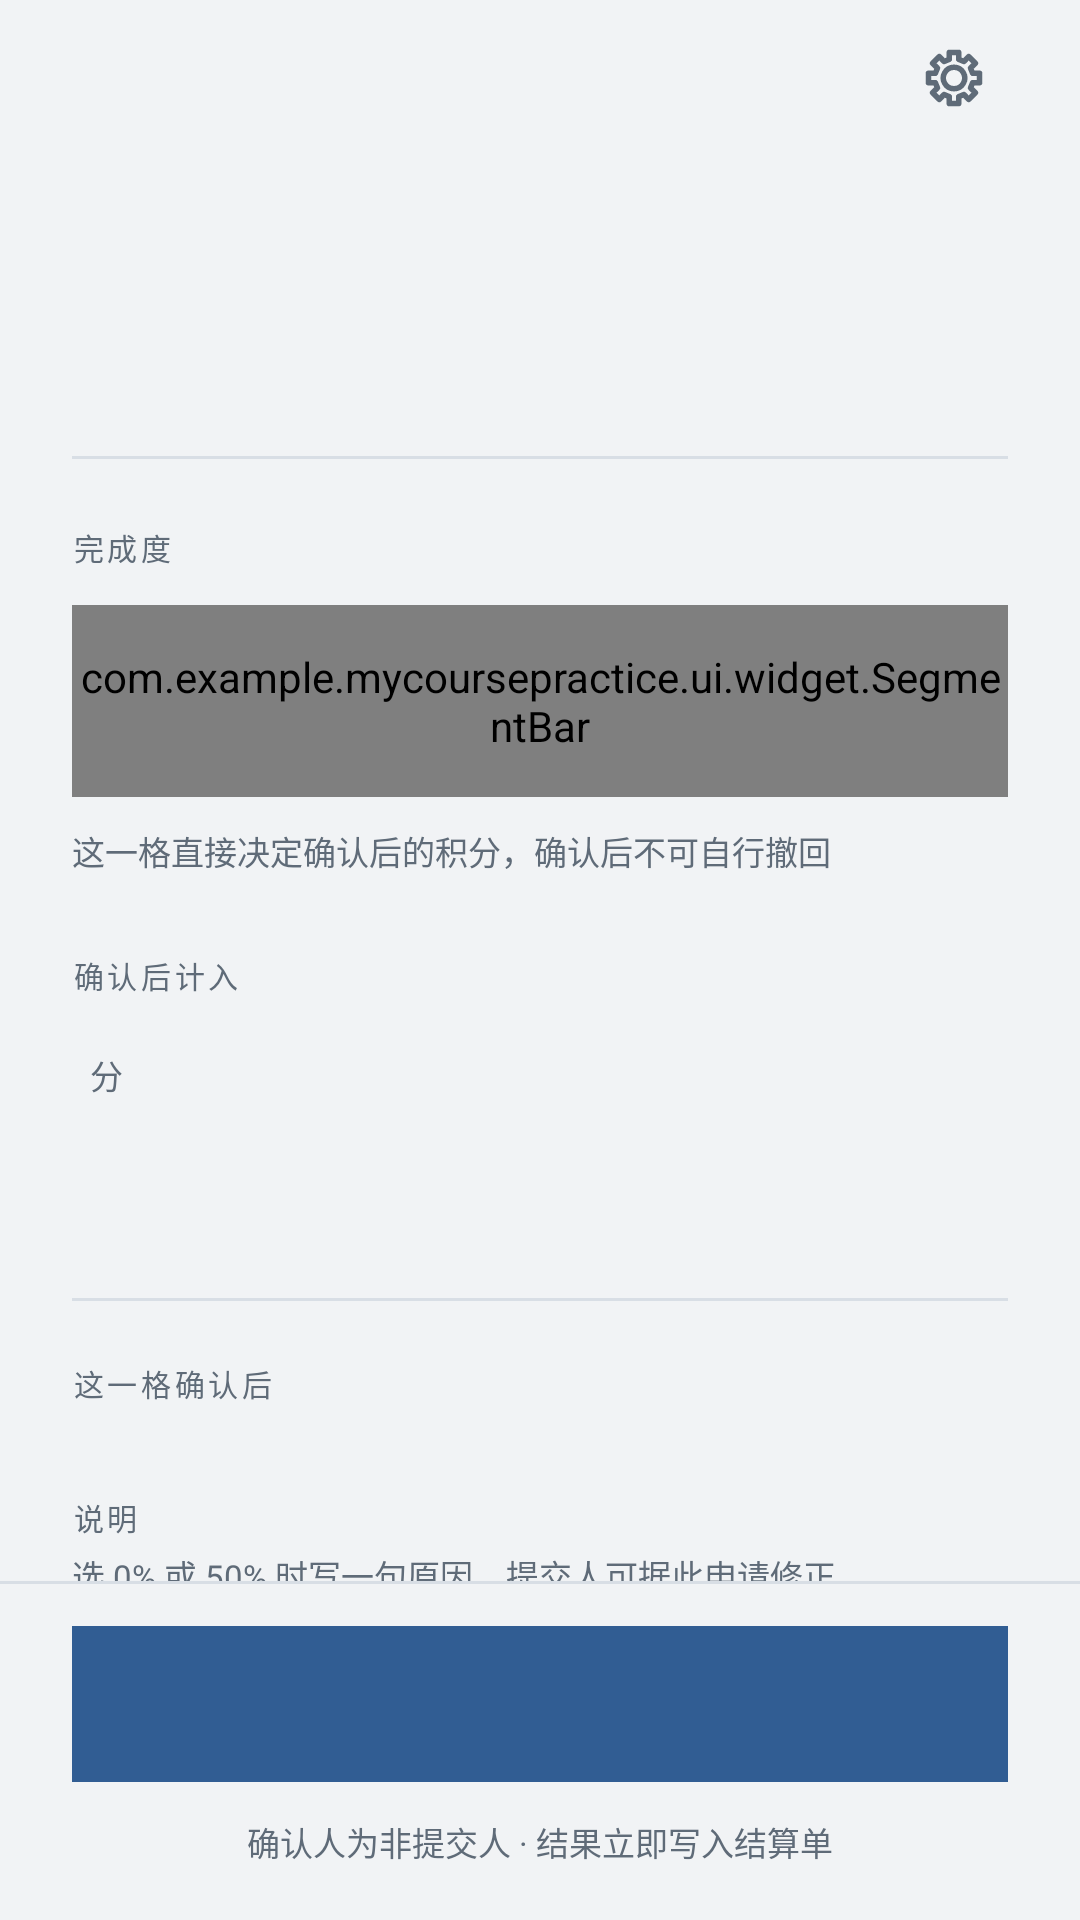

Where to tap for icons on this 1080px×1920px app screen, as (x=x, y=y):
设置: (x=954, y=78)
